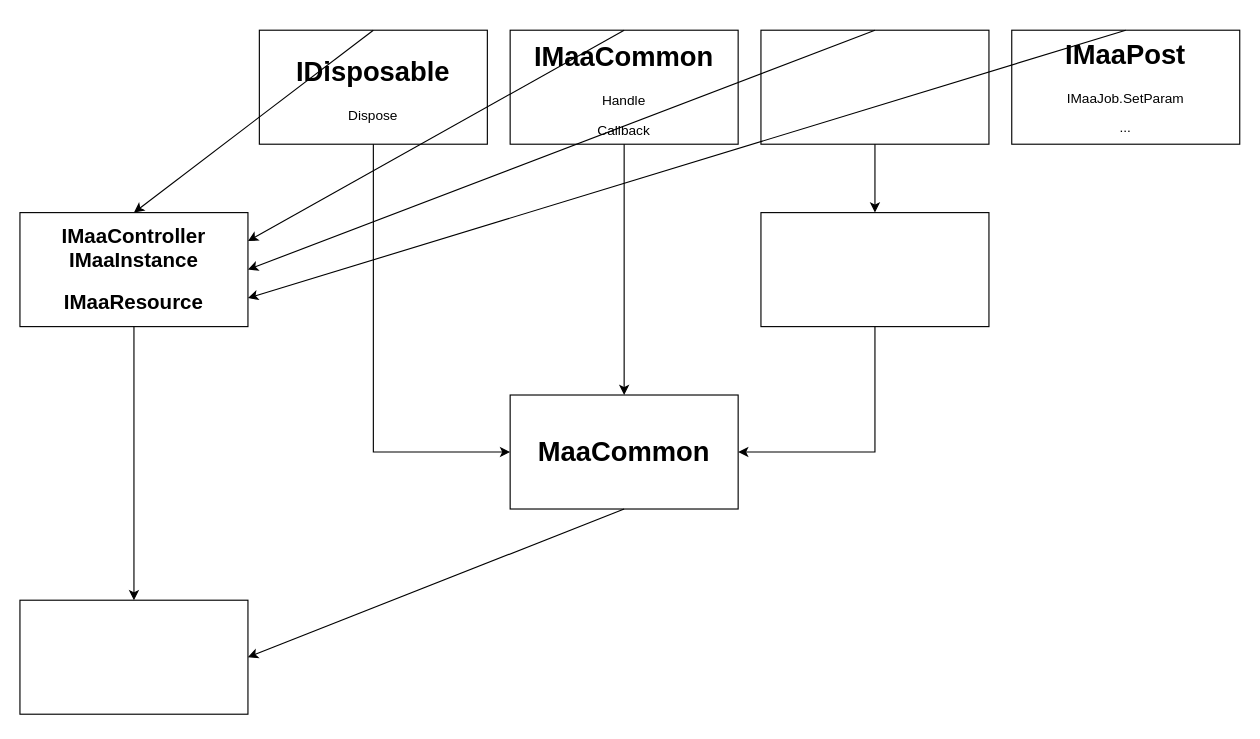
Some shapes in this 1260 by 739 pixel diagram are drawn without their labels. Each missing label, with the centre of its shape:
"IMaaOption SetOption" goes at [874,86].
"MaaController MaaInstance MaaResource" goes at [133,656].
"MaaOption" goes at [874,269].
